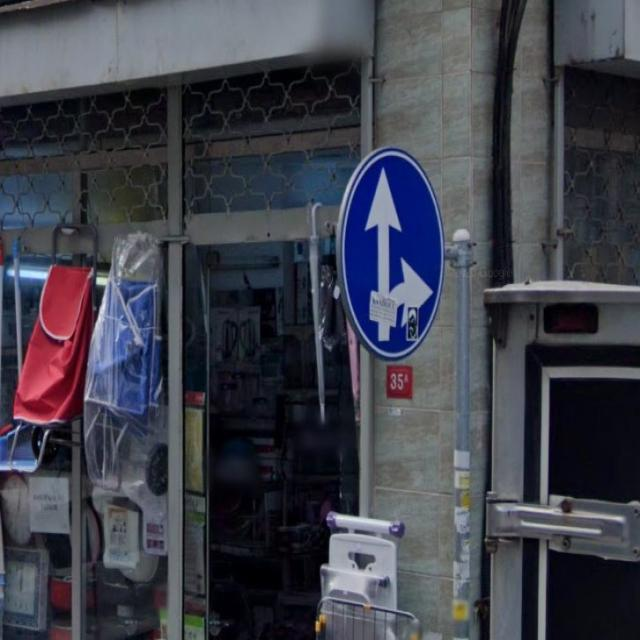ilerisag: (339, 148, 444, 358)
